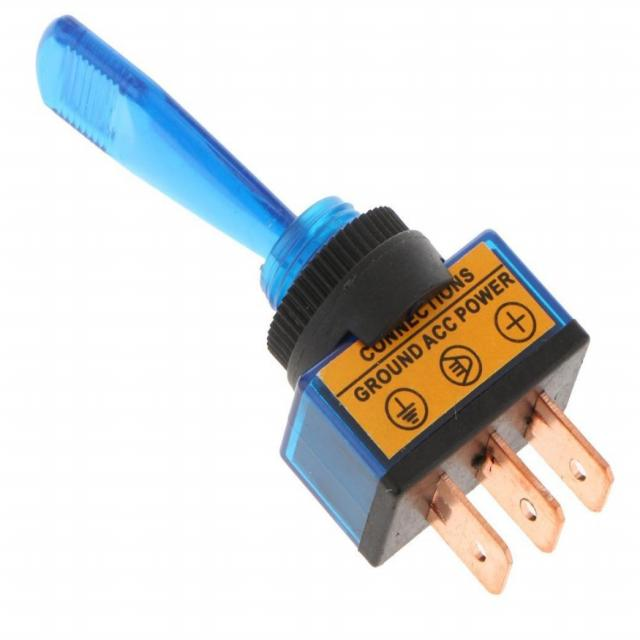toggle switch: (32, 14, 432, 374)
